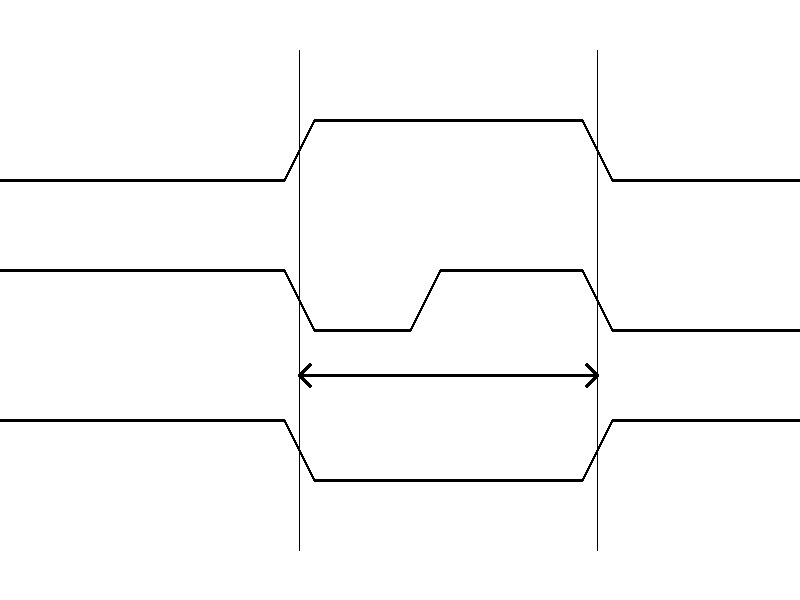double_arrow: (299, 360, 597, 390)
